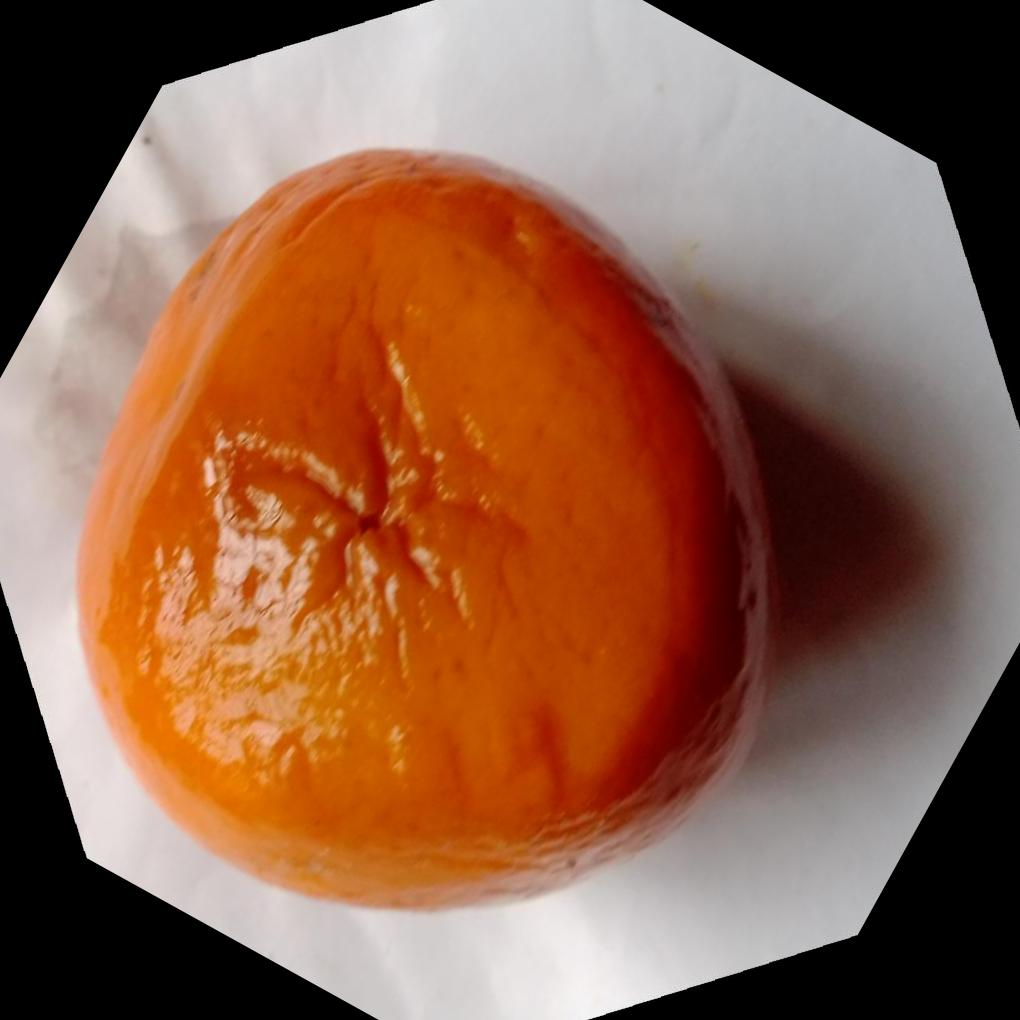FreshOrange: (70, 146, 775, 918)
